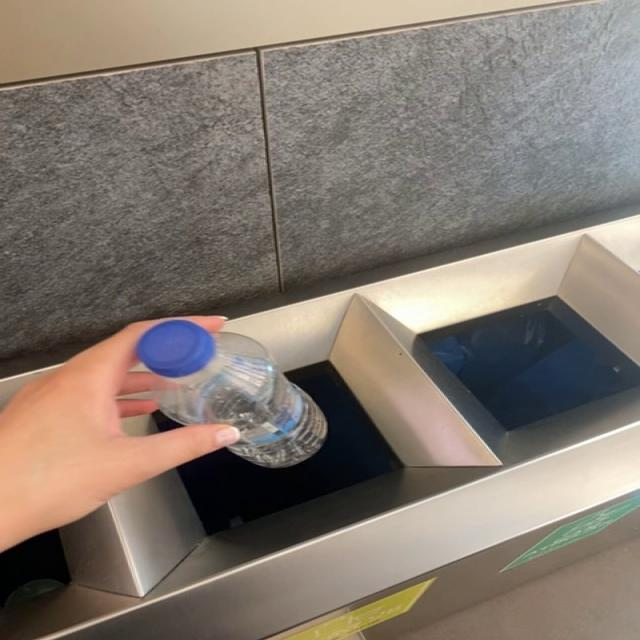Plastic: (136, 320, 328, 470)
